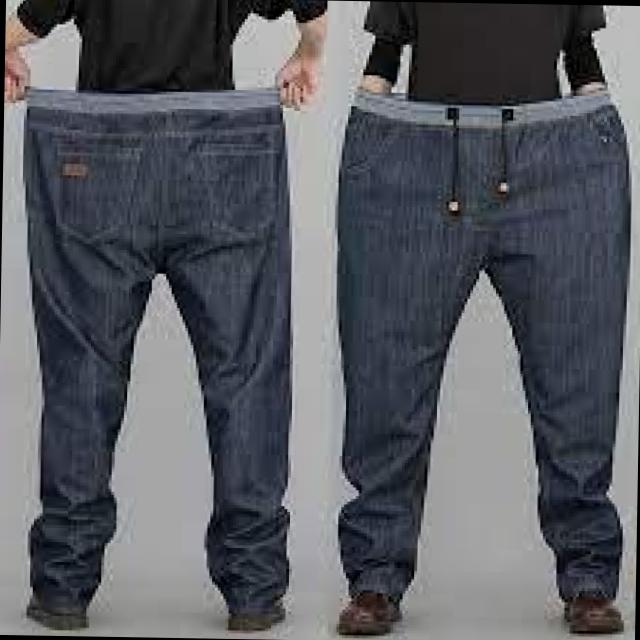pants: (331, 88, 627, 610), (12, 83, 297, 616)
